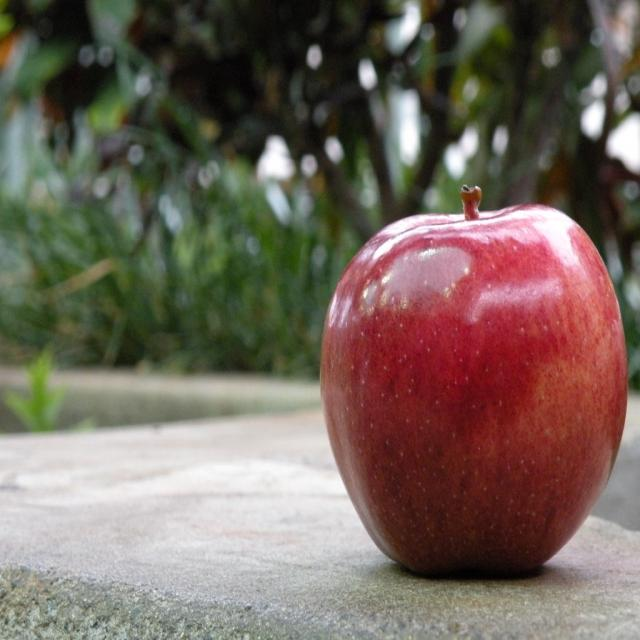Apple: (310, 180, 628, 584)
